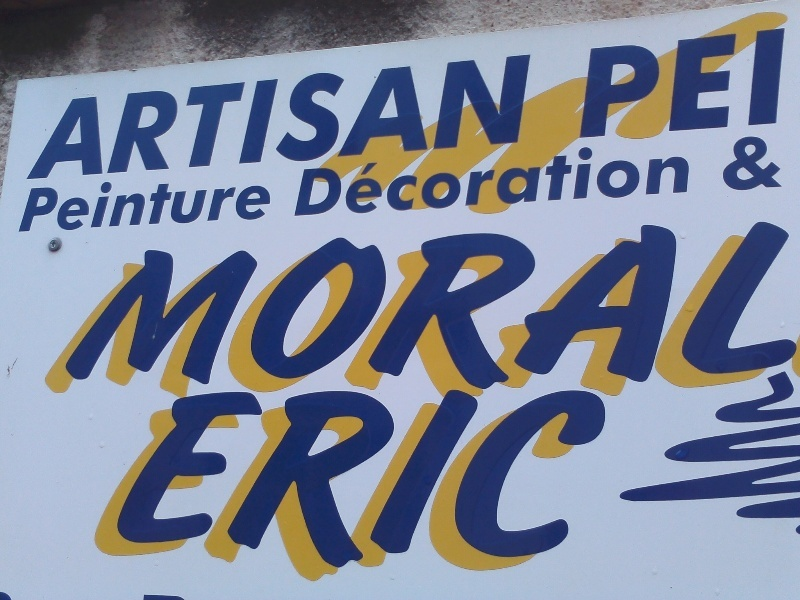text: (177, 389, 192, 597), (193, 389, 208, 597), (209, 389, 224, 597), (225, 389, 240, 597), (241, 389, 256, 597), (257, 389, 272, 597), (273, 389, 288, 597), (289, 389, 304, 597), (305, 389, 320, 597), (321, 389, 336, 597), (337, 389, 352, 597), (353, 389, 368, 597), (369, 389, 384, 597), (385, 389, 400, 597), (401, 389, 416, 597), (417, 389, 432, 597), (433, 389, 448, 597), (449, 389, 464, 597), (465, 389, 480, 597), (481, 389, 496, 597), (497, 389, 512, 597), (513, 389, 528, 597), (529, 389, 544, 597), (545, 389, 560, 597), (561, 389, 576, 597), (577, 389, 592, 597), (593, 389, 608, 597), (145, 213, 160, 400), (161, 213, 176, 400), (177, 213, 192, 400), (193, 213, 208, 400), (209, 213, 224, 400), (225, 213, 240, 400), (241, 213, 256, 400), (257, 213, 272, 400), (273, 213, 288, 400), (289, 213, 304, 400), (305, 213, 320, 400), (321, 213, 336, 400), (337, 213, 352, 400), (353, 213, 368, 400), (369, 213, 384, 400), (385, 213, 400, 400), (401, 213, 416, 400), (417, 213, 432, 400), (433, 213, 448, 400), (449, 213, 464, 400), (465, 213, 480, 400), (481, 213, 496, 400), (497, 213, 512, 400), (513, 213, 528, 400), (529, 213, 544, 400), (545, 213, 560, 400), (561, 213, 576, 400), (577, 213, 592, 400), (593, 213, 608, 400), (609, 213, 624, 400), (625, 213, 640, 400), (641, 213, 656, 400), (657, 213, 672, 400), (673, 213, 688, 400), (689, 213, 704, 400), (705, 213, 720, 400), (721, 213, 736, 400), (737, 213, 752, 400), (753, 213, 768, 400), (769, 213, 784, 400), (785, 213, 800, 400), (81, 53, 96, 184), (97, 53, 112, 184), (113, 53, 128, 184), (129, 53, 144, 184), (145, 53, 160, 184), (161, 53, 176, 184), (177, 53, 192, 184), (193, 53, 208, 184), (209, 53, 224, 184), (225, 53, 240, 184), (241, 53, 256, 184), (257, 53, 272, 184), (273, 53, 288, 184), (289, 53, 304, 184), (305, 53, 320, 184), (321, 53, 336, 184), (337, 53, 352, 184), (353, 53, 368, 184), (369, 53, 384, 184), (385, 53, 400, 184), (401, 53, 416, 184), (417, 53, 432, 184), (433, 53, 448, 184), (449, 53, 464, 184), (465, 53, 480, 184), (481, 53, 496, 184), (497, 53, 512, 184), (513, 53, 528, 184), (593, 27, 608, 141), (609, 27, 624, 141), (625, 27, 640, 141), (641, 27, 656, 141), (657, 27, 672, 141), (673, 27, 688, 141), (689, 27, 704, 141), (705, 27, 720, 141), (721, 27, 736, 141), (737, 27, 752, 141), (753, 27, 768, 141), (769, 27, 784, 141), (69, 53, 80, 184), (170, 389, 176, 597), (609, 389, 615, 597), (305, 142, 320, 219), (321, 142, 336, 219), (337, 142, 352, 219), (353, 142, 368, 219), (369, 142, 384, 219), (385, 142, 400, 219), (401, 142, 416, 219), (417, 142, 432, 219), (433, 142, 448, 219), (449, 142, 464, 219), (465, 142, 480, 219), (481, 142, 496, 219), (497, 142, 512, 219), (513, 142, 528, 219), (529, 142, 544, 219), (545, 142, 560, 219), (561, 142, 576, 219), (577, 142, 592, 219), (593, 142, 608, 219), (609, 142, 624, 219), (625, 142, 640, 219), (641, 142, 656, 219), (657, 142, 672, 219), (673, 142, 688, 219), (33, 174, 48, 234), (49, 174, 64, 234), (65, 174, 80, 234), (81, 174, 96, 234), (97, 174, 112, 234), (113, 174, 128, 234), (129, 174, 144, 234), (145, 174, 160, 234), (161, 174, 176, 234), (177, 174, 192, 234), (193, 174, 208, 234), (209, 174, 224, 234), (225, 174, 240, 234), (241, 174, 256, 234), (257, 174, 272, 234), (737, 133, 752, 192), (753, 133, 768, 192), (769, 133, 784, 192), (529, 53, 535, 184), (140, 213, 144, 400), (689, 142, 694, 219), (273, 174, 279, 234), (785, 27, 788, 141), (301, 142, 304, 219), (590, 27, 592, 141), (29, 174, 32, 234), (735, 133, 736, 192), (785, 133, 786, 192)
